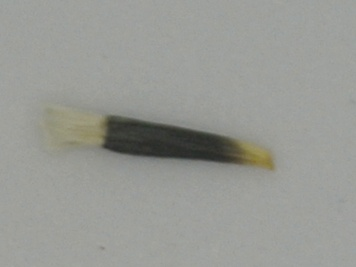เมล็ดดีติดกัน: (43, 101, 276, 174)
